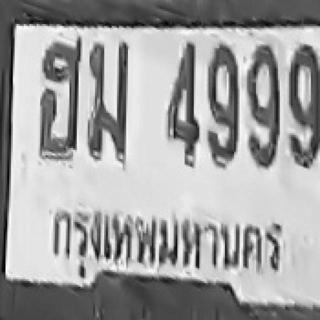A33: (87, 40, 129, 160), (87, 40, 129, 149)
A44: (38, 38, 82, 160)
N00: (245, 42, 280, 121)
N04: (165, 41, 199, 166), (165, 41, 199, 150)
N09: (206, 44, 239, 168), (287, 44, 320, 168), (287, 61, 320, 168), (246, 68, 279, 168)
P04: (42, 202, 294, 283)
